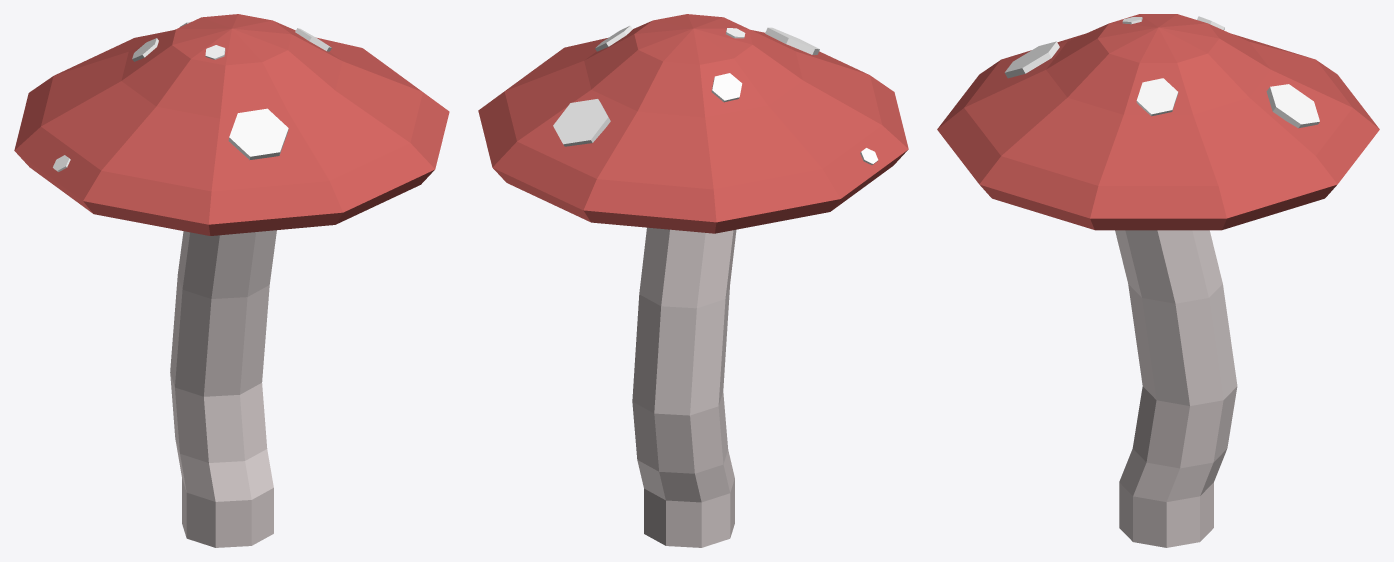
File: mushroom.fbx
The picture shows the model from 3 angles, left to right: view 1: azimuth 30°, elevation 25°; view 2: azimuth 150°, elevation 25°; view 3: azimuth 270°, elevation 25°; orthographic projection.
Visible parts, largest first — view 1: Mushroom; view 2: Mushroom; view 3: Mushroom.
Boxes of the visible parts, box(x1,y1,x2,y2) form: Mushroom: box(14, 14, 449, 547); Mushroom: box(478, 14, 908, 547); Mushroom: box(937, 14, 1379, 547).
Bounding box in the file's own units: 30.24 × 39.64 × 31.8.
